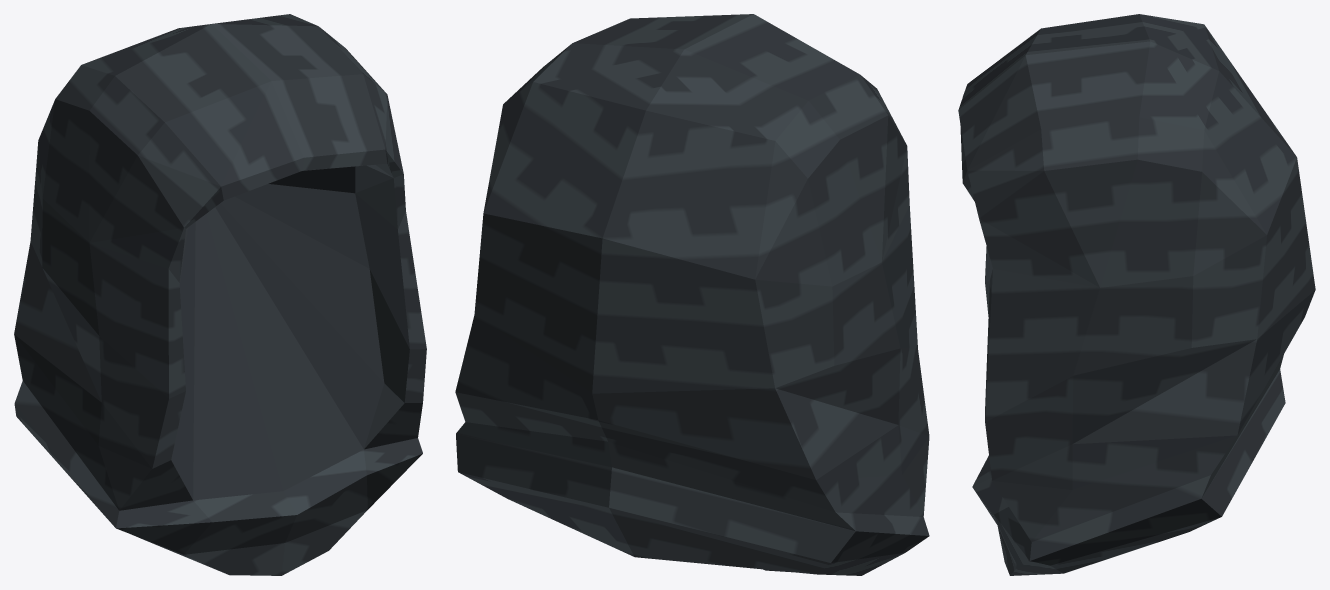
Rendered from Chr_HeadCoverings_No_Hair_12_Static.fbx.
The picture shows the model from 3 angles, left to right: view 1: azimuth 30°, elevation 25°; view 2: azimuth 150°, elevation 25°; view 3: azimuth 270°, elevation 25°; orthographic projection. The views are drawn at different scales.
Visible parts, largest first — view 1: Chr_HeadCoverings_No_Hair_12_Static; view 2: Chr_HeadCoverings_No_Hair_12_Static; view 3: Chr_HeadCoverings_No_Hair_12_Static.
Boxes of the visible parts, x1=… form: Chr_HeadCoverings_No_Hair_12_Static: x1=14, y1=14, x2=426, y2=575; Chr_HeadCoverings_No_Hair_12_Static: x1=455, y1=14, x2=929, y2=575; Chr_HeadCoverings_No_Hair_12_Static: x1=958, y1=14, x2=1315, y2=575.
Size of the model in its own units: 0.3193 by 0.4428 by 0.2753.
